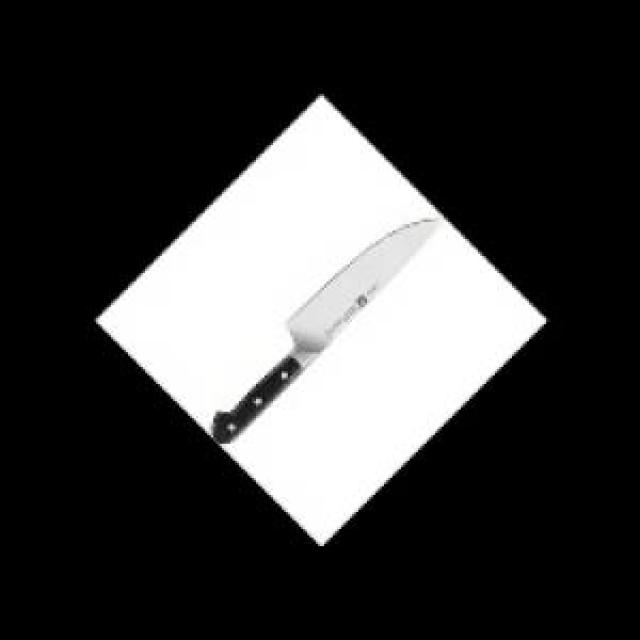knife: (213, 218, 447, 444)
